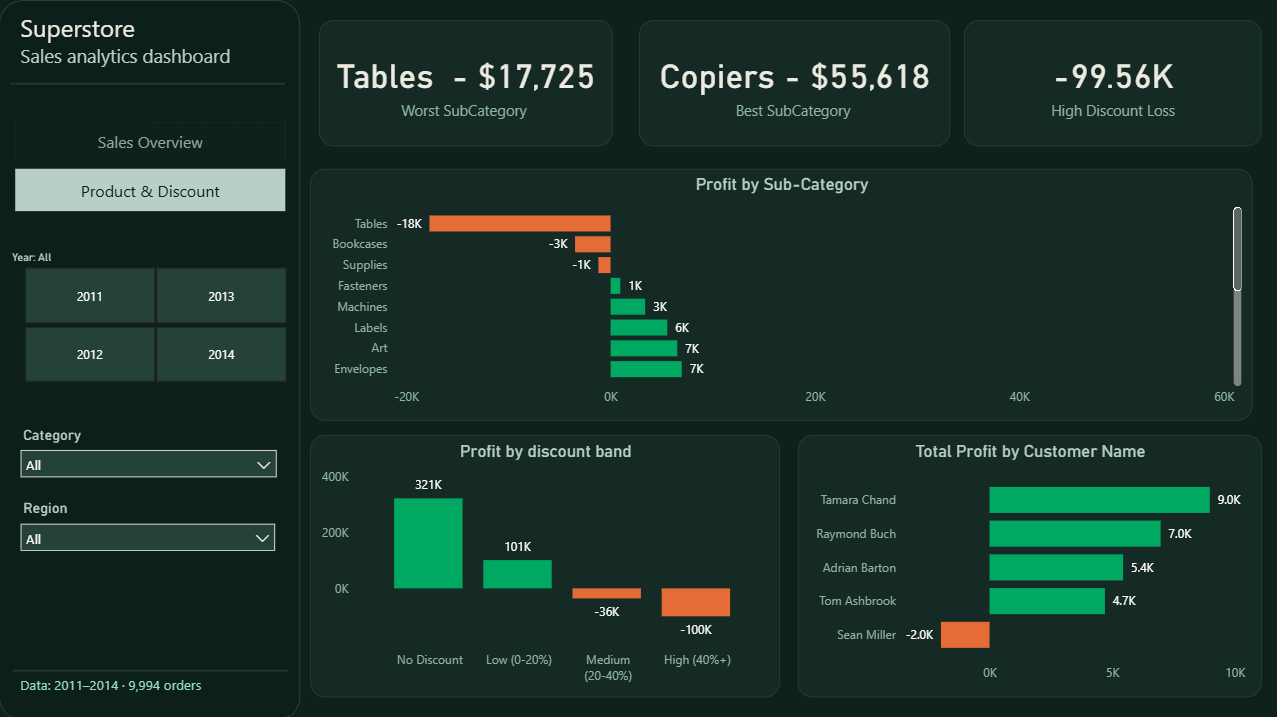

The page's visual inventory and layout, read from the dashboard file:
{"tool":"powerbi","page":{"name":"Product & Discount","canvas":[1280,720],"ordinal":1},"visuals":[{"type":"shape","box":[0,0,301.2,721.2],"z":0},{"type":"actionButton","box":[16.2,122.5,270,37.5],"z":1000},{"type":"actionButton","box":[16.2,168.8,270,42.5],"z":2000},{"type":"slicer","fields":{"Values":["Superstore_Cleaned.Order Year"]},"box":[0,246.2,311.2,142.5],"z":3000},{"type":"slicer","fields":{"Values":["Superstore_Cleaned.Region"]},"box":[11.2,495,275,73.8],"z":4000},{"type":"slicer","fields":{"Values":["Superstore_Cleaned.Category"]},"box":[11.2,421.2,276.2,73.8],"z":5000},{"type":"textbox","box":[16.1,671.1,224.6,32.3],"z":6000},{"type":"shape","box":[11.2,62.5,275,42.5],"z":7000},{"type":"shape","box":[13.8,621.2,275,98.8],"z":8000},{"type":"card","fields":{"Values":["_Measures.Worst SubCategory Display"]},"box":[319.7,20.6,293.7,126.2],"z":9000},{"type":"card","fields":{"Values":["_Measures.Best SubCategory Display"]},"box":[639.5,20.6,311.5,126.2],"z":10000},{"type":"card","fields":{"Values":["_Measures.High Discount Loss"]},"box":[964.7,20.6,297.8,126.2],"z":11000},{"type":"clusteredBarChart","title":"Profit by Sub-Category","fields":{"Category":["Superstore_Cleaned.Sub-Category"],"Y":["_Measures.Total Profit"]},"box":[311.3,168.9,942.2,252.1],"z":12000},{"type":"clusteredColumnChart","title":"Profit by discount band","fields":{"Y":["_Measures.Total Profit"],"Category":["Superstore_Cleaned.Discount Band"]},"box":[311.5,435,469.3,262.1],"z":13000},{"type":"barChart","fields":{"Category":["Superstore_Cleaned.Customer Name"],"Y":["_Measures.Total Profit"]},"box":[798.6,435,463.8,262.1],"z":14000},{"type":"textbox","box":[16.5,6.9,248.4,76.8],"z":15000}]}

Visuals, with their boxes in screenshot pixels (x1, y1, x2, y2), scaled from the page's 1280x720 canvas onto the 1277x717 screenshot:
shape: <bbox>0, 0, 300, 716</bbox>
actionButton: <bbox>16, 122, 286, 159</bbox>
actionButton: <bbox>16, 168, 286, 210</bbox>
slicer - Superstore_Cleaned.Order Year: <bbox>0, 245, 310, 387</bbox>
slicer - Superstore_Cleaned.Region: <bbox>11, 493, 286, 566</bbox>
slicer - Superstore_Cleaned.Category: <bbox>11, 419, 287, 493</bbox>
textbox: <bbox>16, 668, 240, 700</bbox>
shape: <bbox>11, 62, 286, 105</bbox>
shape: <bbox>14, 619, 288, 716</bbox>
card - _Measures.Worst SubCategory Display: <bbox>319, 21, 612, 146</bbox>
card - _Measures.Best SubCategory Display: <bbox>638, 21, 949, 146</bbox>
card - _Measures.High Discount Loss: <bbox>962, 21, 1260, 146</bbox>
"Profit by Sub-Category" clusteredBarChart: <bbox>311, 168, 1251, 419</bbox>
"Profit by discount band" clusteredColumnChart: <bbox>311, 433, 779, 694</bbox>
barChart - Superstore_Cleaned.Customer Name x _Measures.Total Profit: <bbox>797, 433, 1259, 694</bbox>
textbox: <bbox>16, 7, 264, 83</bbox>
